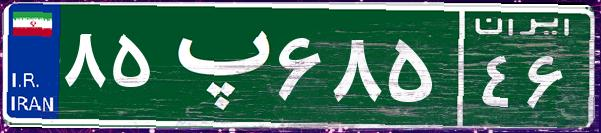4: (475, 38, 525, 113)
5: (385, 28, 445, 110), (110, 28, 158, 105)
6: (273, 28, 330, 110), (525, 38, 570, 115)
8: (330, 28, 385, 110), (57, 26, 110, 107)
پ: (158, 15, 273, 115)
